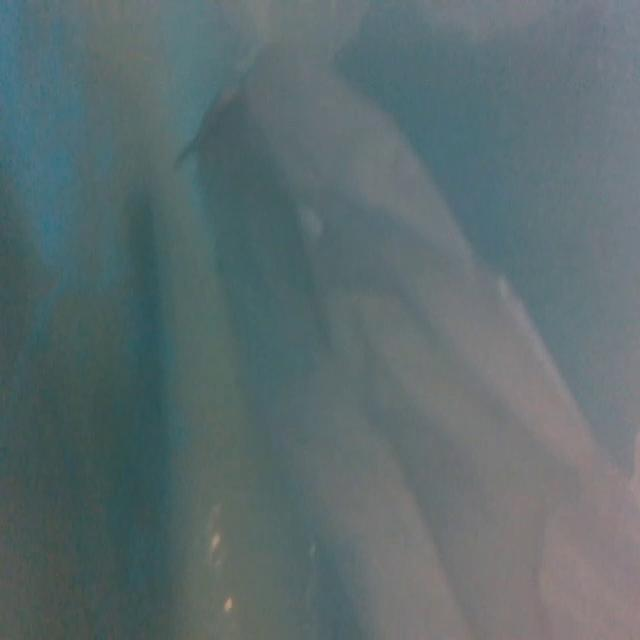plastic bags: (174, 38, 640, 640)
